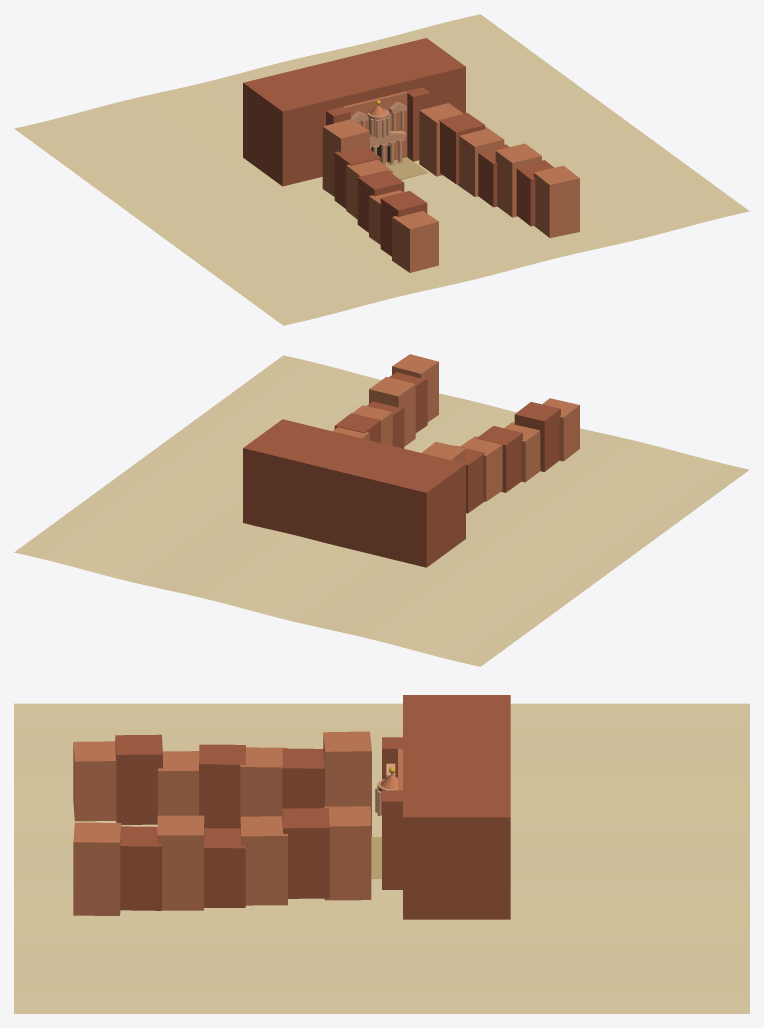
The model's file is Petra.glb.
3 renders of one model, top to bottom at view 1: azimuth 30°, elevation 25°; view 2: azimuth 150°, elevation 25°; view 3: azimuth 270°, elevation 25°, orthographic. The views are drawn at different scales.
Visible parts, largest first — view 1: Petra; view 2: Petra; view 3: Petra.
Part boxes in pixels (x1,y1,x2,y2): Petra: (14, 14, 749, 325); Petra: (14, 354, 749, 666); Petra: (14, 695, 749, 1013).
Bounding box in the file's own units: 300 × 52.26 × 300.
